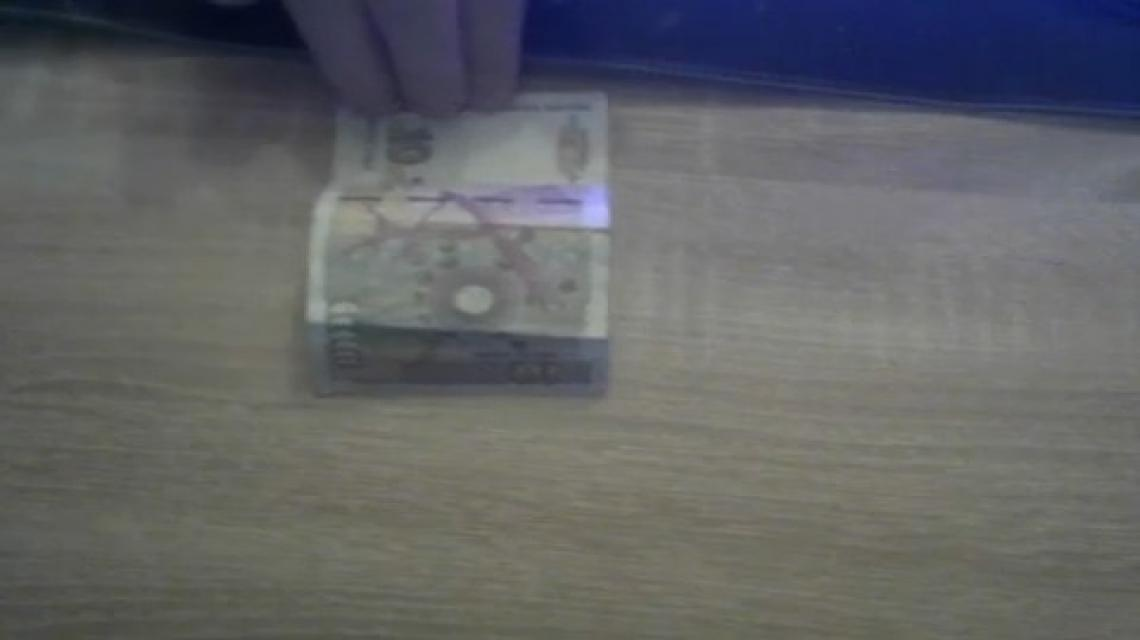10leva: (302, 89, 613, 395)
